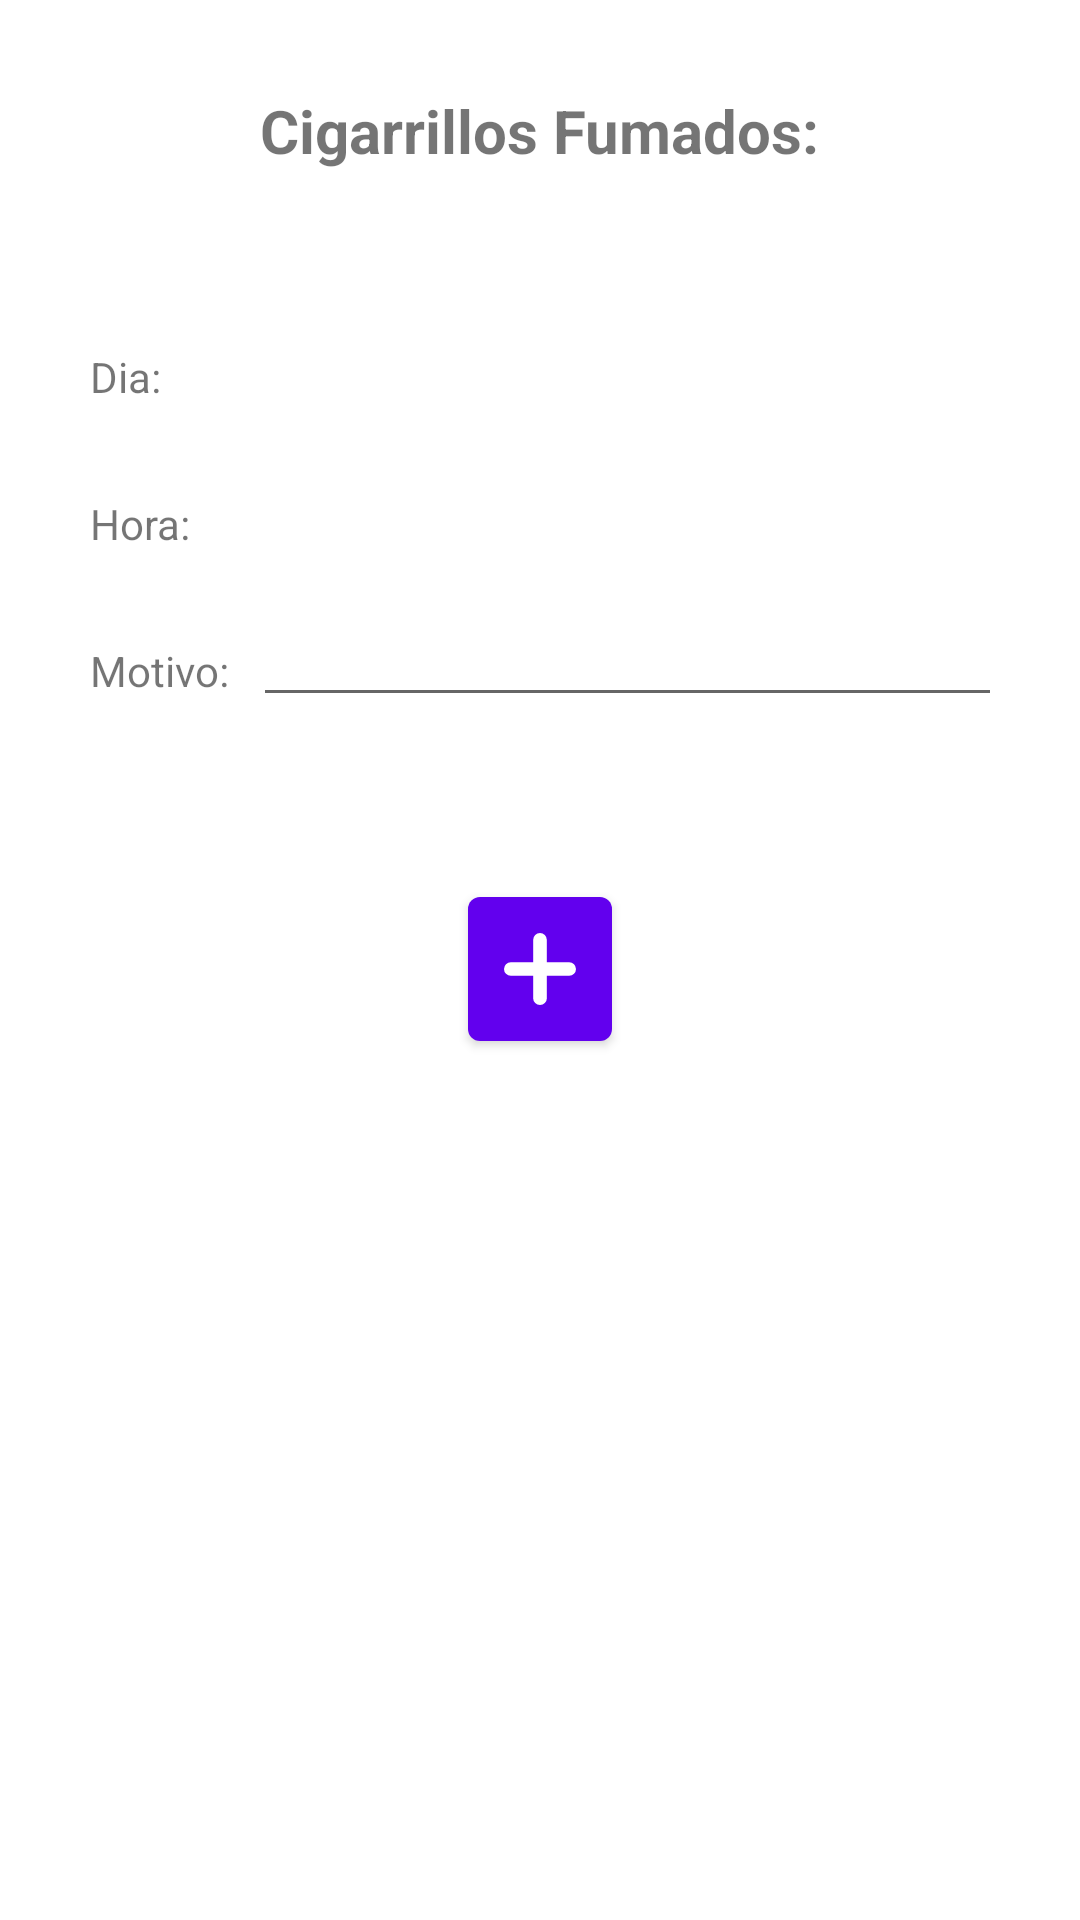

Where to tap for icons on this 1080×1920 app screen, as (x=x, y=y):
plus: (x=540, y=969)
